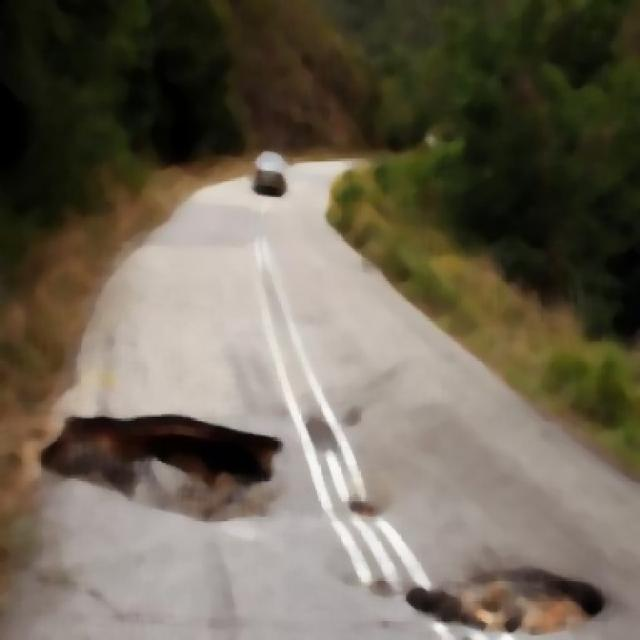Pothole: (48, 390, 277, 541), (378, 532, 634, 638)
